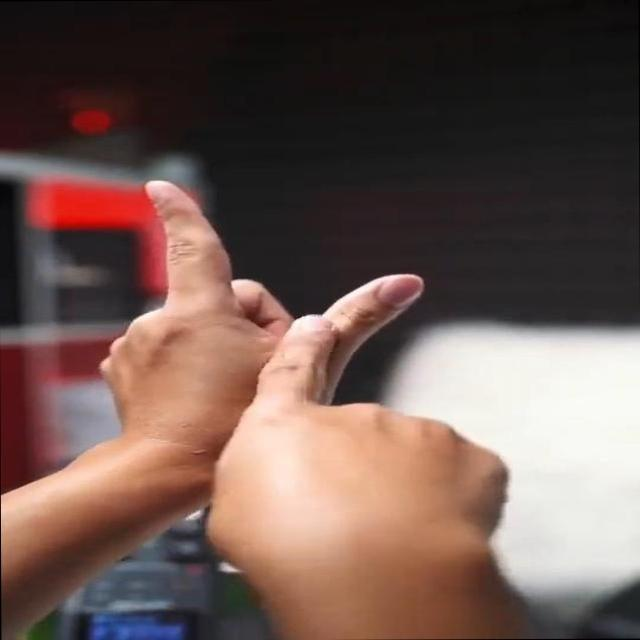Y: (126, 162, 432, 554)
